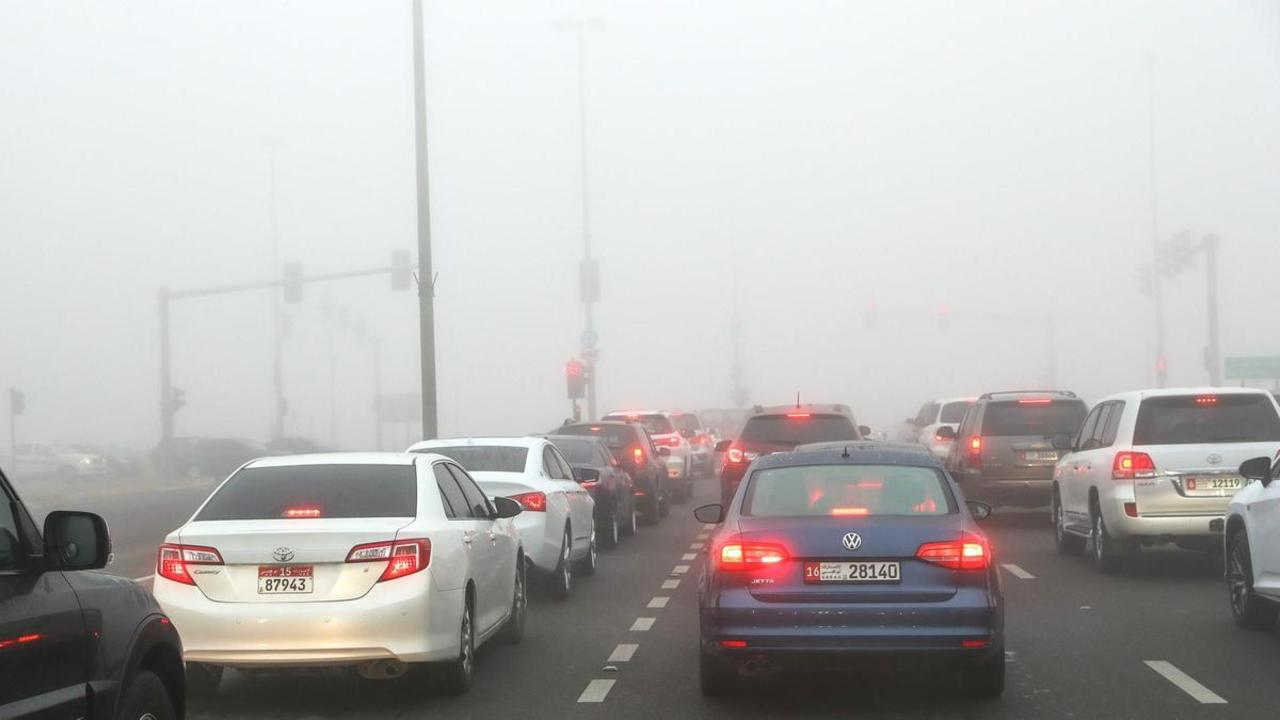car: (149, 447, 532, 694), (691, 445, 1014, 702), (1, 437, 196, 719), (1049, 383, 1279, 573), (422, 433, 606, 597), (945, 386, 1090, 519), (708, 402, 865, 508), (1222, 403, 1275, 631), (544, 430, 647, 542), (562, 420, 667, 523), (596, 409, 702, 498), (12, 426, 110, 480), (920, 398, 976, 466)
